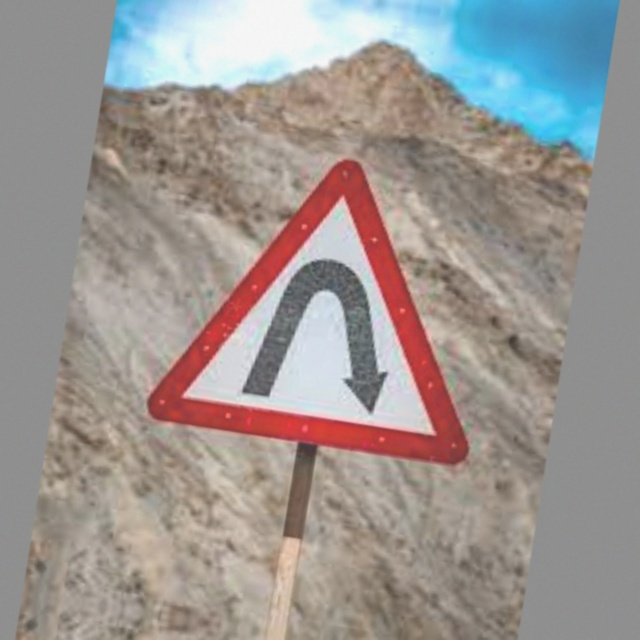Right_Hair_Pin_Bend: (168, 144, 507, 464)
